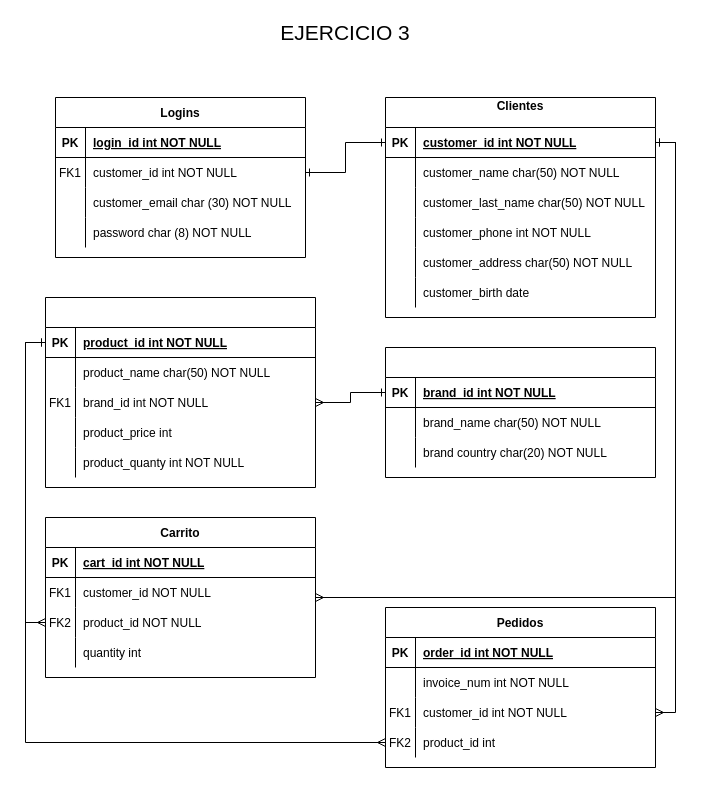
This 702x785 diagram has some shape labels left out. Each missing label, with the box of its shape:
Marcas: (384, 346, 656, 478)
Productos: (44, 296, 316, 488)
